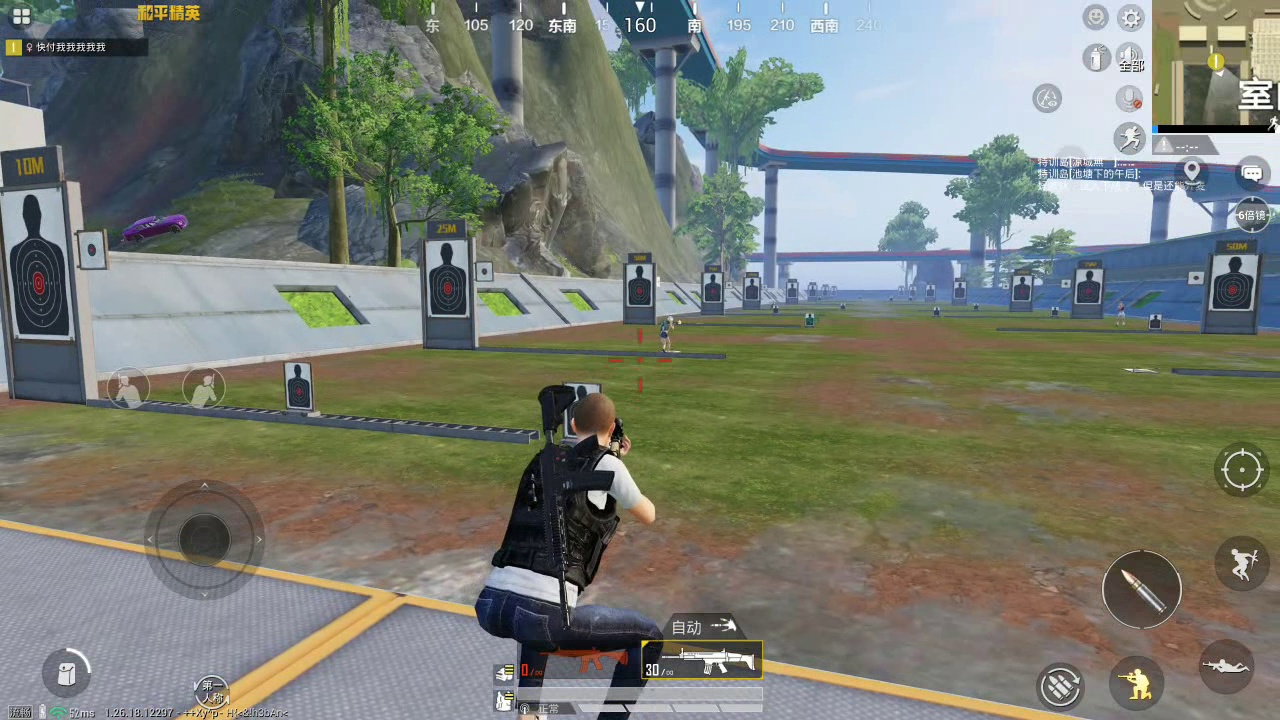enemy: (656, 314, 675, 356)
